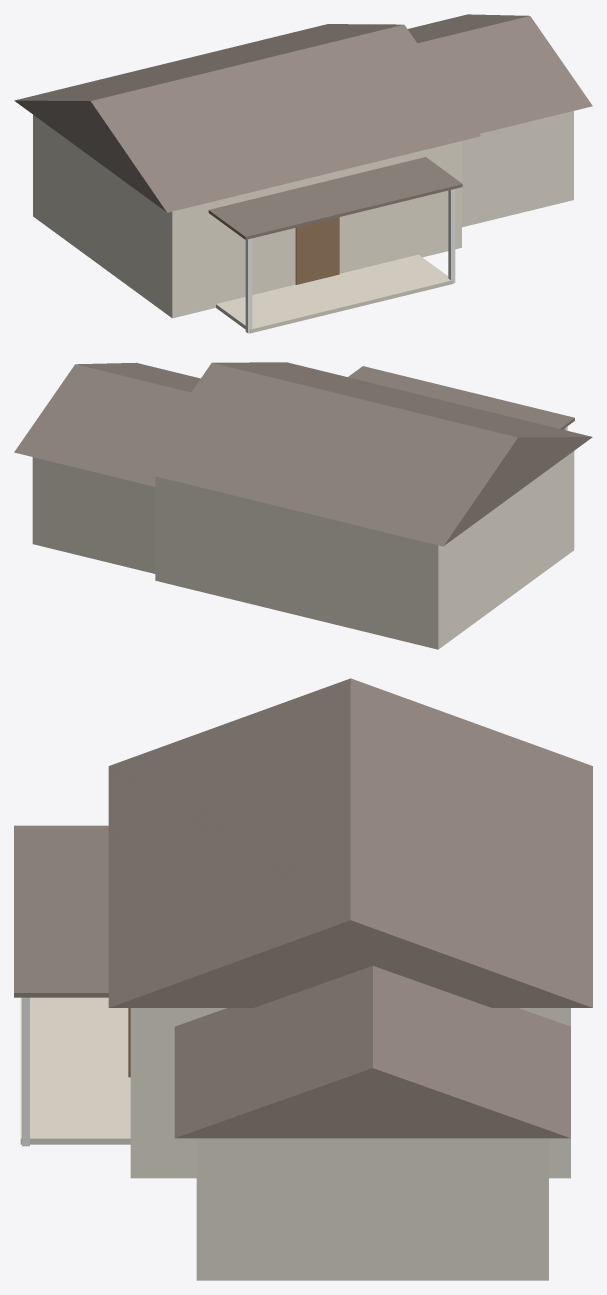
File: clubhouse_medium.glb
3 views of the same model, one above another, from view 1: azimuth 30°, elevation 25°; view 2: azimuth 150°, elevation 25°; view 3: azimuth 270°, elevation 25° (orthographic). The views are drawn at different scales.
Parts seen in each view (by area): view 1: ClubhouseMedium; view 2: ClubhouseMedium; view 3: ClubhouseMedium.
Part boxes in pixels (bbox=[...]): ClubhouseMedium: bbox=[14, 14, 592, 333]; ClubhouseMedium: bbox=[14, 362, 592, 649]; ClubhouseMedium: bbox=[14, 678, 592, 1280].
Bounding box in the file's own units: 18.5 × 6.7 × 13.15.
